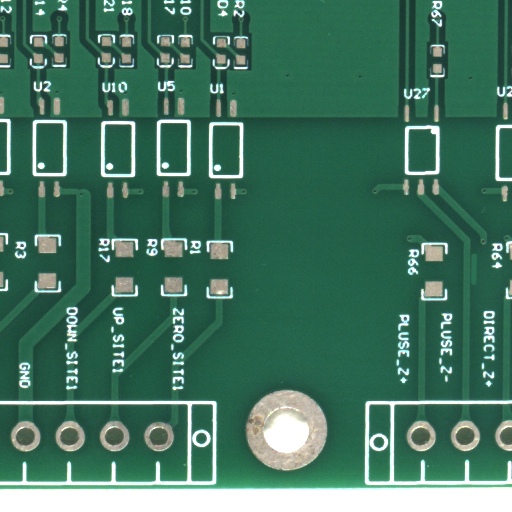Spurious_copper: (474, 270, 484, 305)
